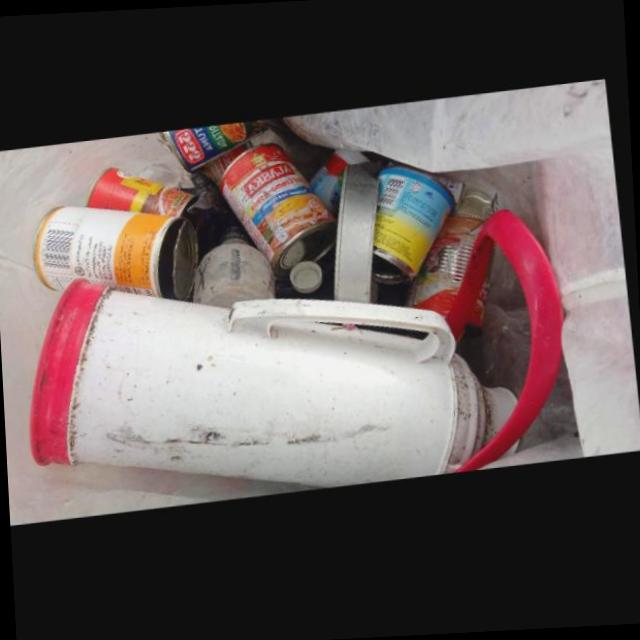chai_nhua: (197, 228, 280, 313)
nhom: (39, 208, 203, 305), (226, 148, 342, 284), (412, 193, 503, 328), (376, 173, 459, 291), (338, 169, 384, 309), (164, 125, 275, 177), (90, 170, 201, 221)
